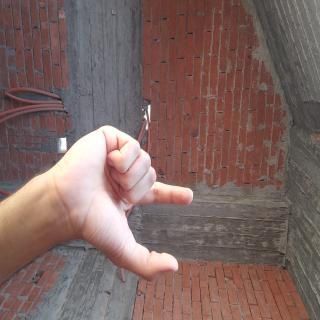NOON: (90, 162, 214, 320)
